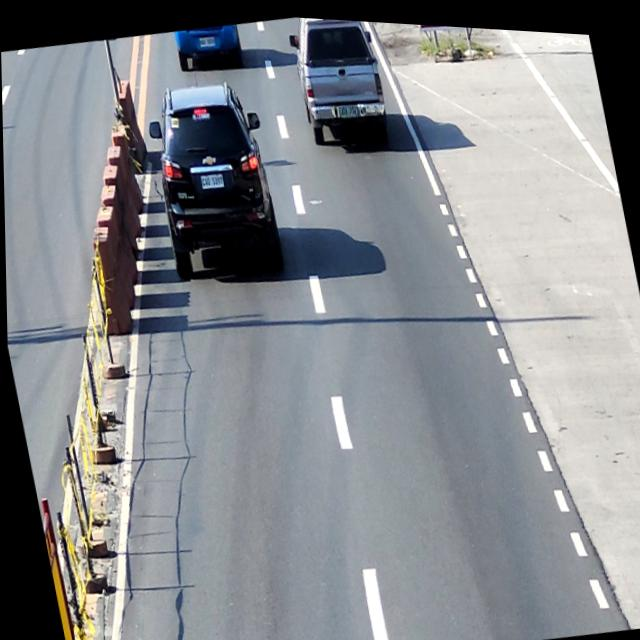Car: (140, 68, 288, 285), (284, 13, 391, 146), (172, 18, 245, 75)
License-Plate: (199, 170, 224, 188), (338, 100, 359, 115), (198, 31, 215, 45)
